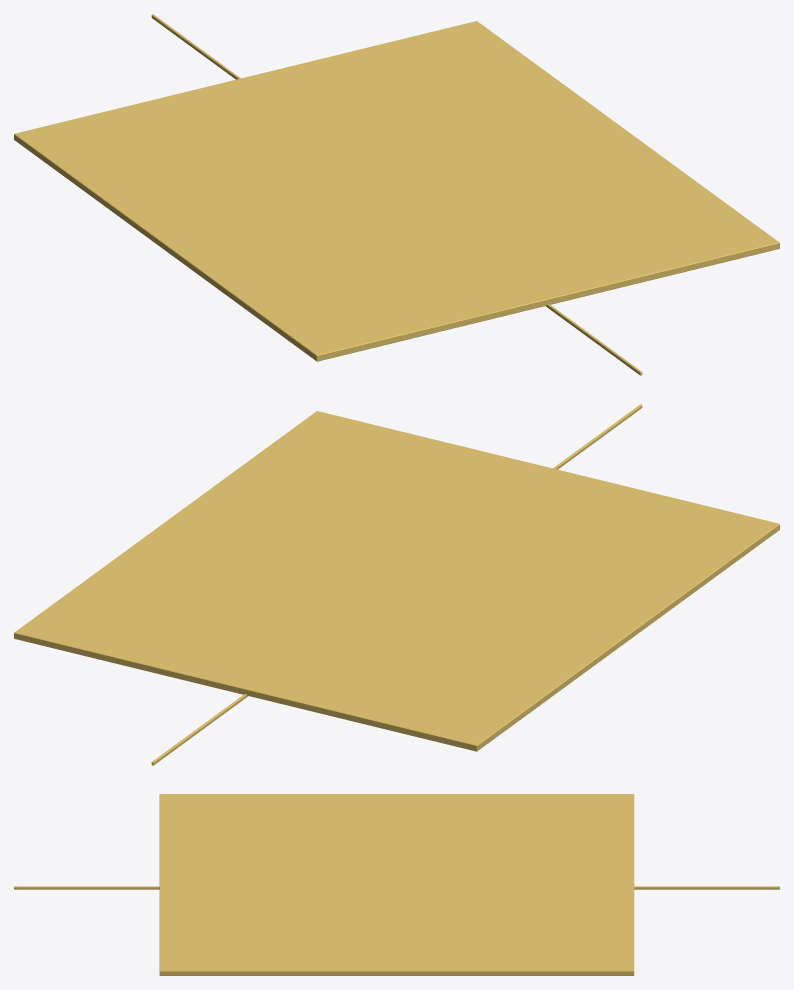
Rendered from SM_Deck_30x0p4x34.glb.
3 renders of one model, top to bottom at view 1: azimuth 30°, elevation 25°; view 2: azimuth 150°, elevation 25°; view 3: azimuth 270°, elevation 25°, orthographic. The views are drawn at different scales.
Parts seen in each view (by area): view 1: SM_Deck_30x0p4x34; view 2: SM_Deck_30x0p4x34; view 3: SM_Deck_30x0p4x34.
Part boxes in pixels (x1,y1,x2,y2): SM_Deck_30x0p4x34: [14, 14, 779, 375]; SM_Deck_30x0p4x34: [14, 404, 779, 765]; SM_Deck_30x0p4x34: [14, 794, 779, 975].
Bounding box in the file's own units: 30 × 0.5364 × 54.83.
